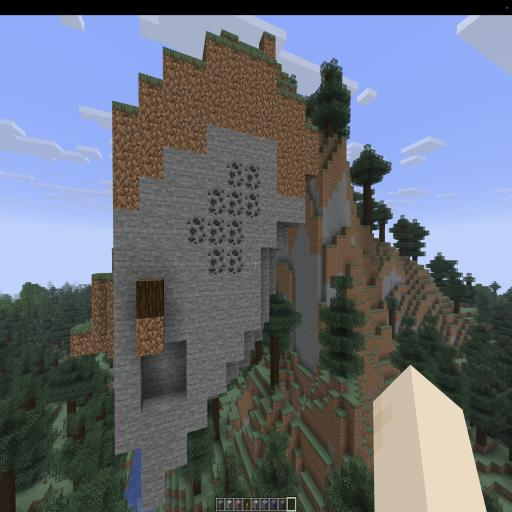coal ore: (186, 217, 244, 277), (208, 160, 262, 218)
